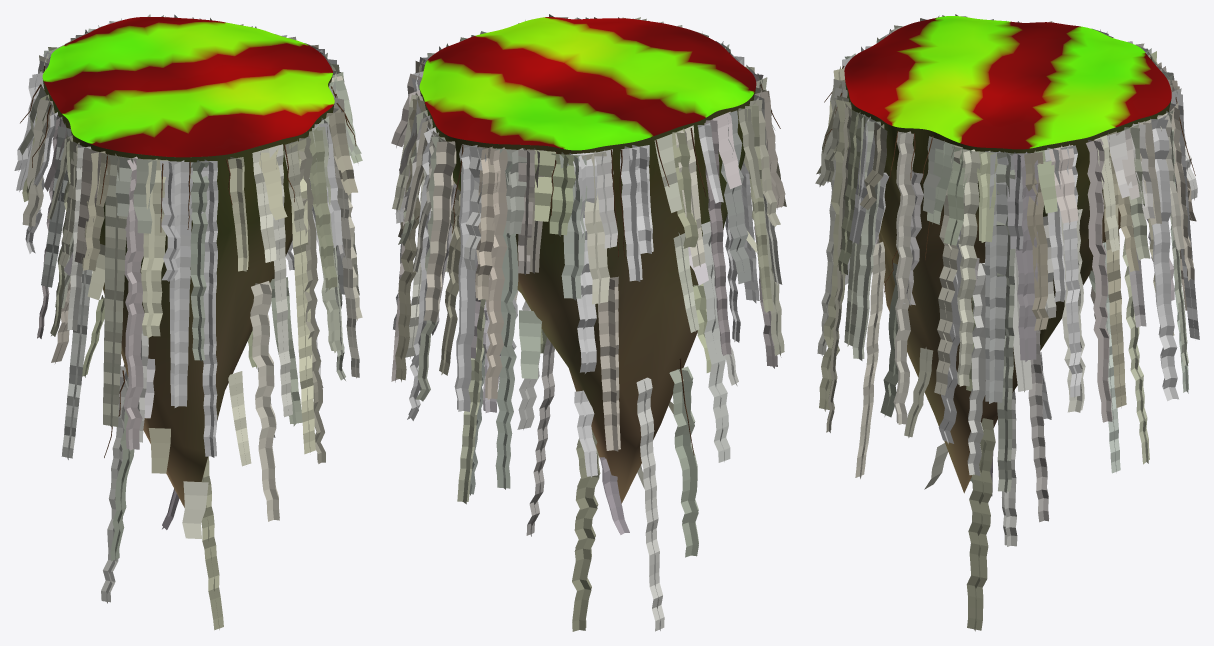
The model's file is SM_H03_Floater03.fbx.
The picture shows the model from 3 angles, left to right: view 1: azimuth 30°, elevation 25°; view 2: azimuth 150°, elevation 25°; view 3: azimuth 270°, elevation 25°; orthographic projection. The views are drawn at different scales.
Visible parts, largest first — view 1: SM_H03_Floater03_Ivy, SM_H03_Floater03; view 2: SM_H03_Floater03_Ivy, SM_H03_Floater03; view 3: SM_H03_Floater03_Ivy, SM_H03_Floater03.
Part boxes in pixels (box(x1,y1,x2,y2)): SM_H03_Floater03_Ivy: box(14, 14, 362, 630); SM_H03_Floater03: box(42, 17, 334, 507); SM_H03_Floater03_Ivy: box(391, 14, 786, 631); SM_H03_Floater03: box(419, 17, 756, 503); SM_H03_Floater03_Ivy: box(815, 14, 1199, 631); SM_H03_Floater03: box(844, 16, 1171, 493).
Size of the model in its own units: 30.51 by 49.72 by 31.56.
